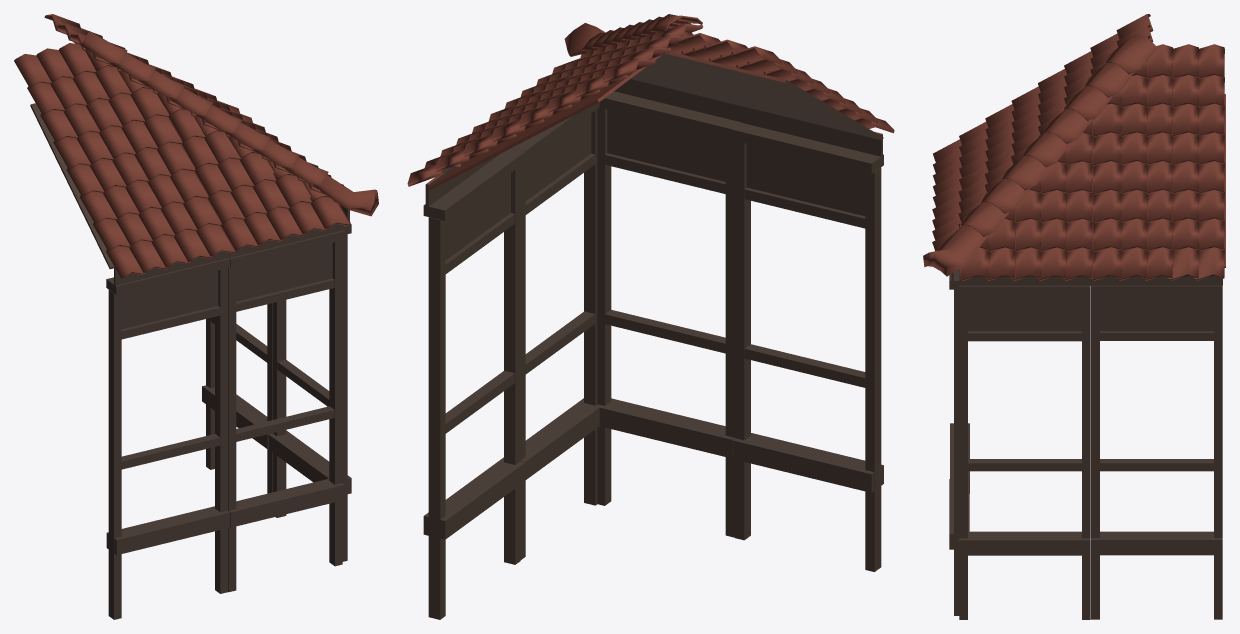
Rendered from roof-facade-corner.fbx.
The picture shows the model from 3 angles, left to right: view 1: azimuth 30°, elevation 25°; view 2: azimuth 150°, elevation 25°; view 3: azimuth 270°, elevation 25°; orthographic projection. The views are drawn at different scales.
Parts seen in each view (by area): view 1: Cube.013, Cube.012; view 2: Cube.013, Cube.012; view 3: Cube.012, Cube.013.
Part boxes in pixels (x1,y1,x2,y2): Cube.013: [30, 103, 351, 619]; Cube.012: [14, 14, 378, 278]; Cube.013: [423, 53, 883, 619]; Cube.012: [407, 14, 894, 190]; Cube.012: [923, 14, 1225, 280]; Cube.013: [949, 266, 1225, 619].
Bounding box in the file's own units: 233 × 423 × 231.
